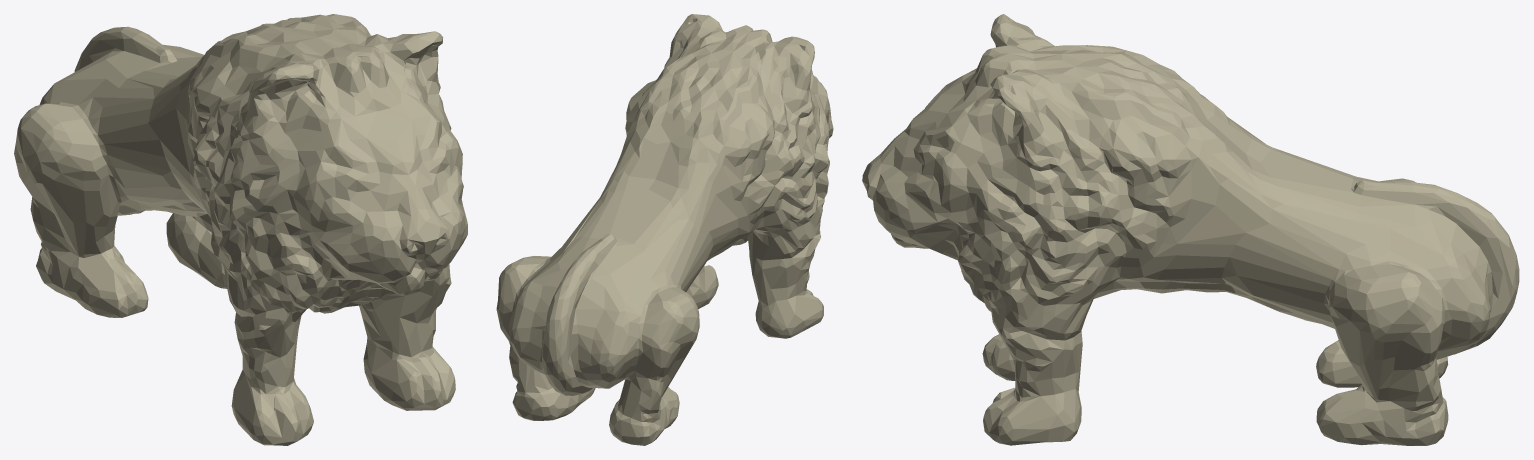
The model's file is Leone_03.glb.
3 renders of one model, left to right at view 1: azimuth 30°, elevation 25°; view 2: azimuth 150°, elevation 25°; view 3: azimuth 270°, elevation 25°, orthographic. The views are drawn at different scales.
Visible parts, largest first — view 1: Leone_03; view 2: Leone_03; view 3: Leone_03.
Part boxes in pixels (x1,y1,x2,y2): Leone_03: (14, 14, 467, 445); Leone_03: (496, 14, 833, 445); Leone_03: (862, 14, 1519, 445).
Size of the model in its own units: 1.29 by 1.84 by 3.05.
